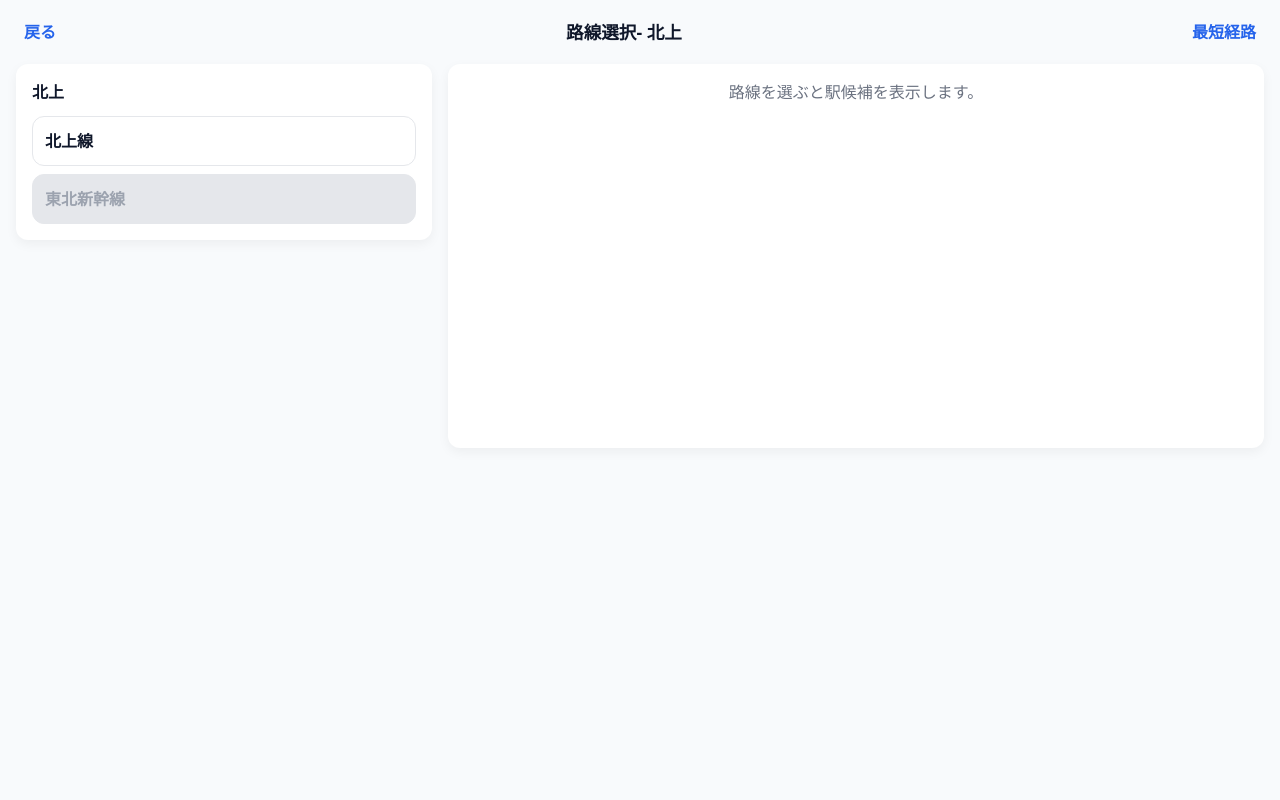
/line-selection/+page.svelte › shows station selection in a split pane on wide screens instead of navigating
Expected: the text "路線を選ぶと駅候補を表示します。" is shown, left=729, top=80, right=983, bottom=104
Step 1. Click the button "北上線" → (69, 141), box left=32, top=116, right=416, bottom=166
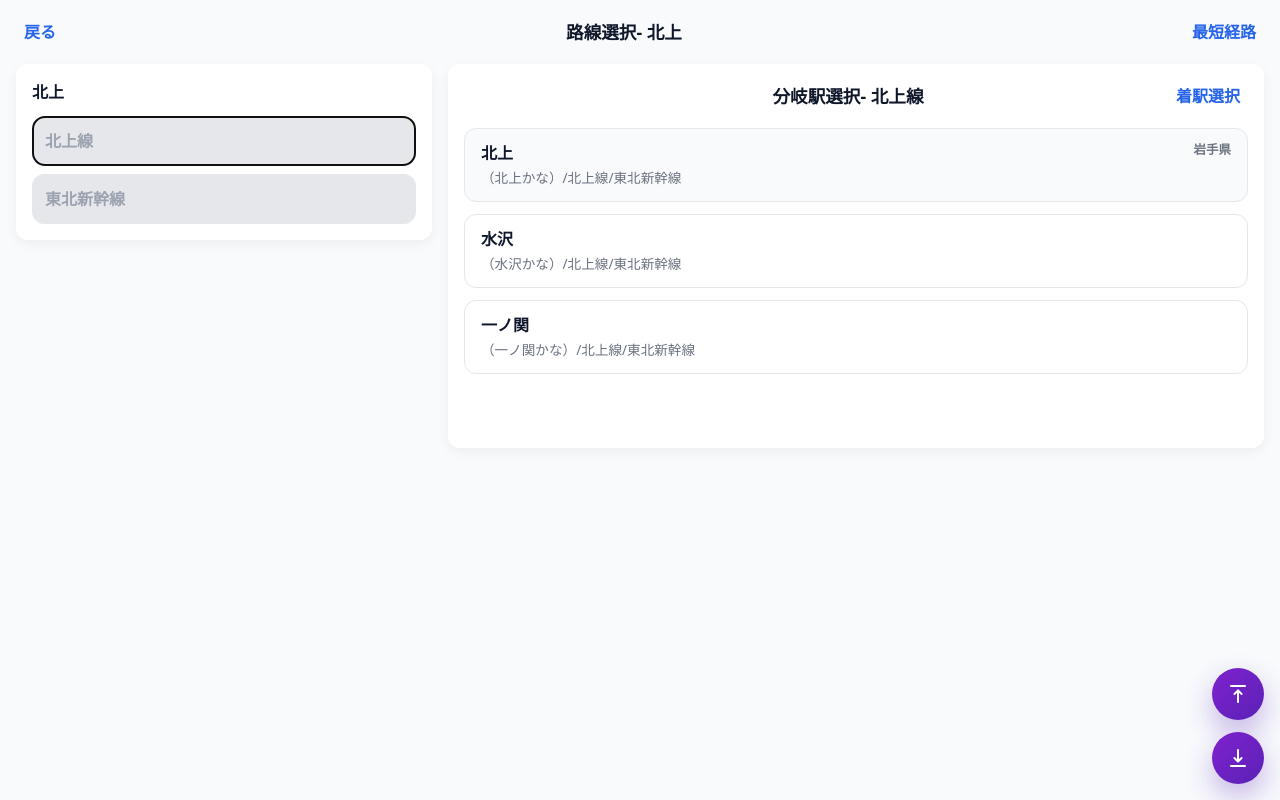
Result: the heading "分岐駅選択- 北上線" is shown at left=772, top=83, right=924, bottom=109
Result: the button with test id "station-option-水沢" is shown at left=464, top=214, right=1248, bottom=288
